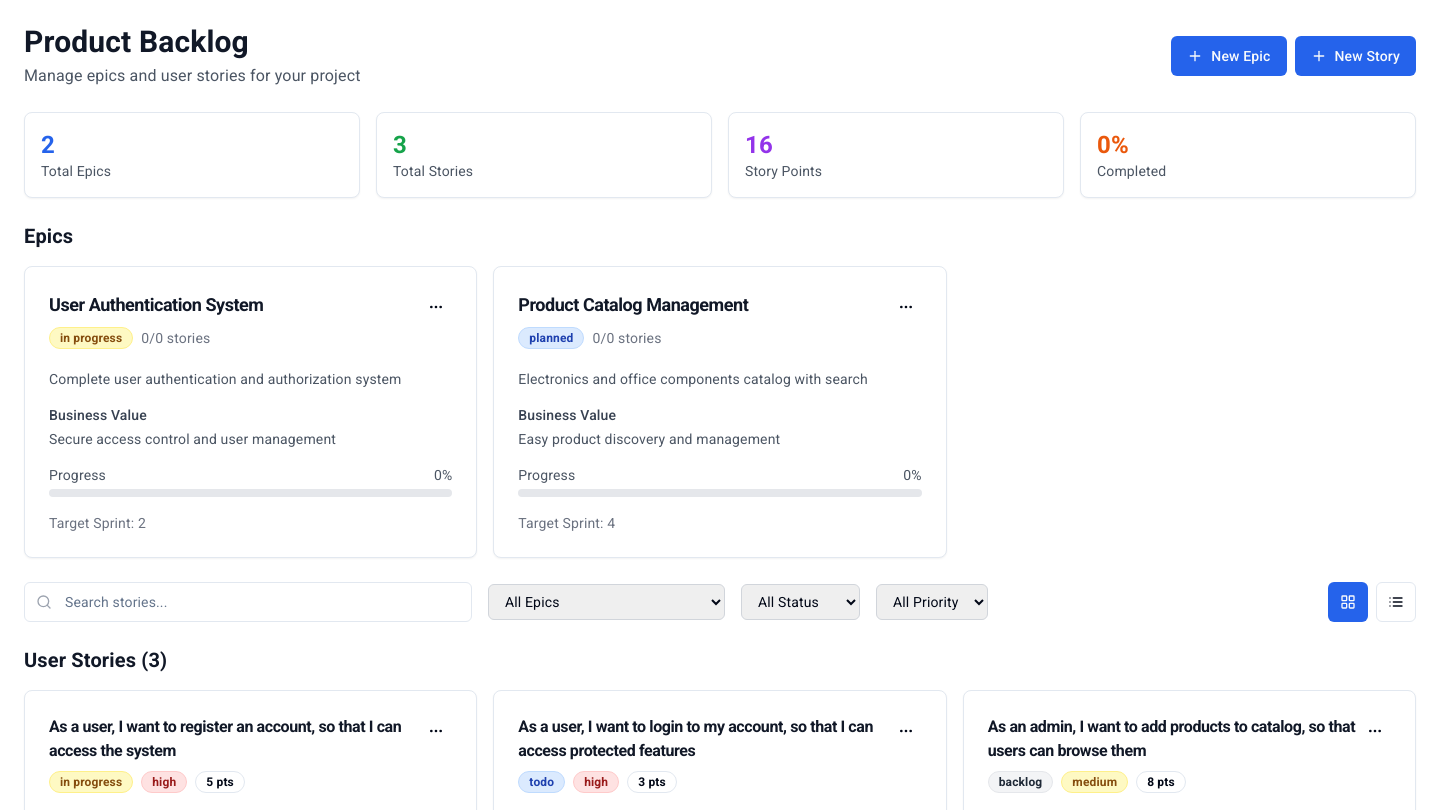
Test: BacklogManagement › opens story form when New Story is clicked
Click the button "New Story". click: (1355, 56)
box: [1294,36,1416,76]
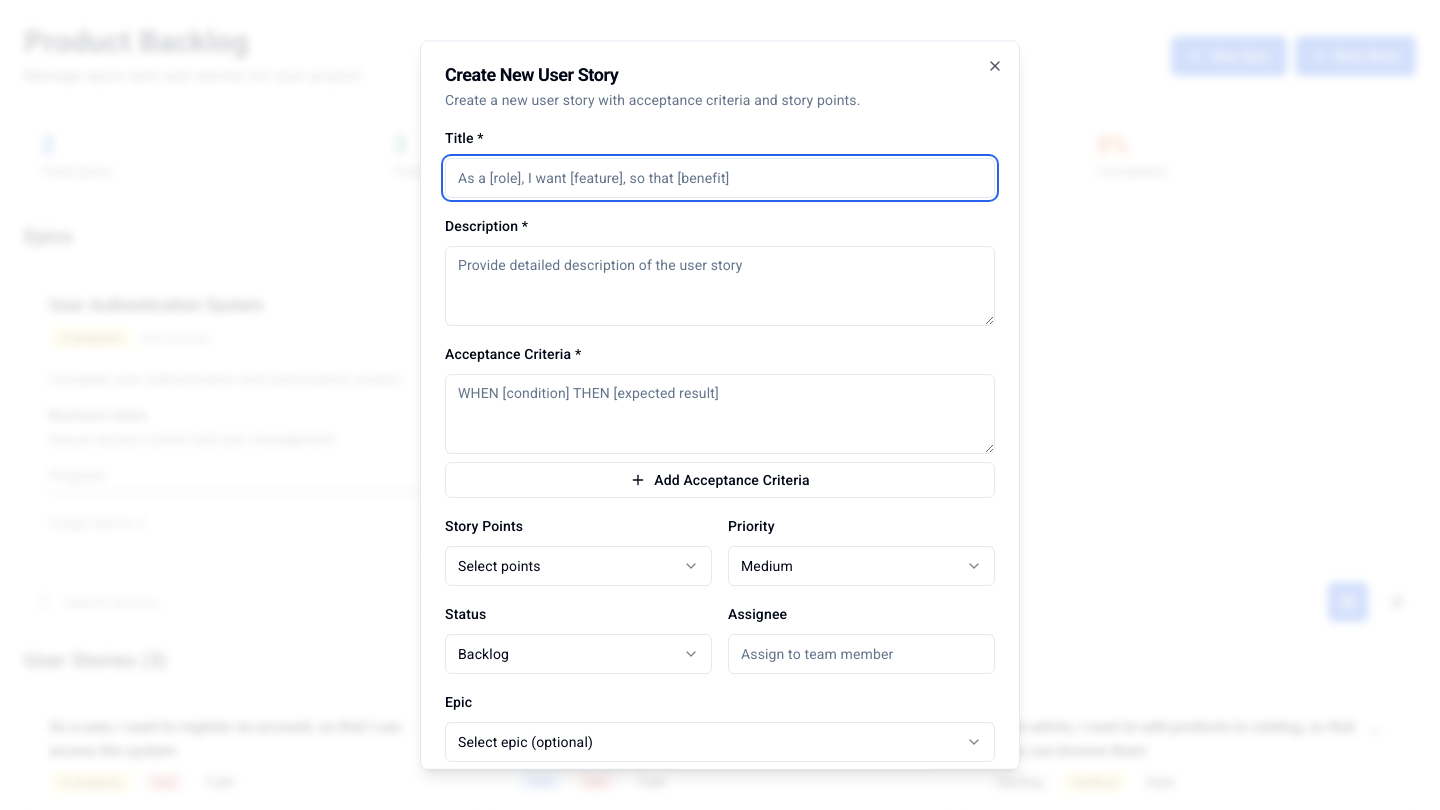
Result: the heading "Create New User Story" is shown at [445,64,618,84]
